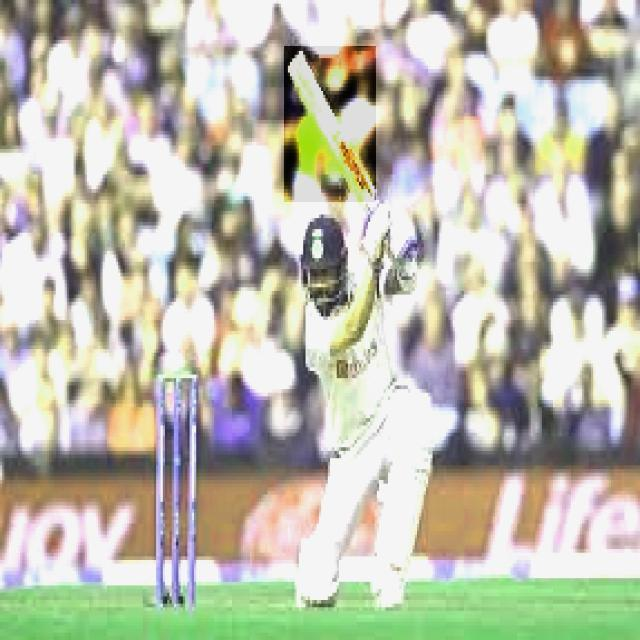bat: (280, 45, 379, 203)
toe: (289, 56, 304, 72)
